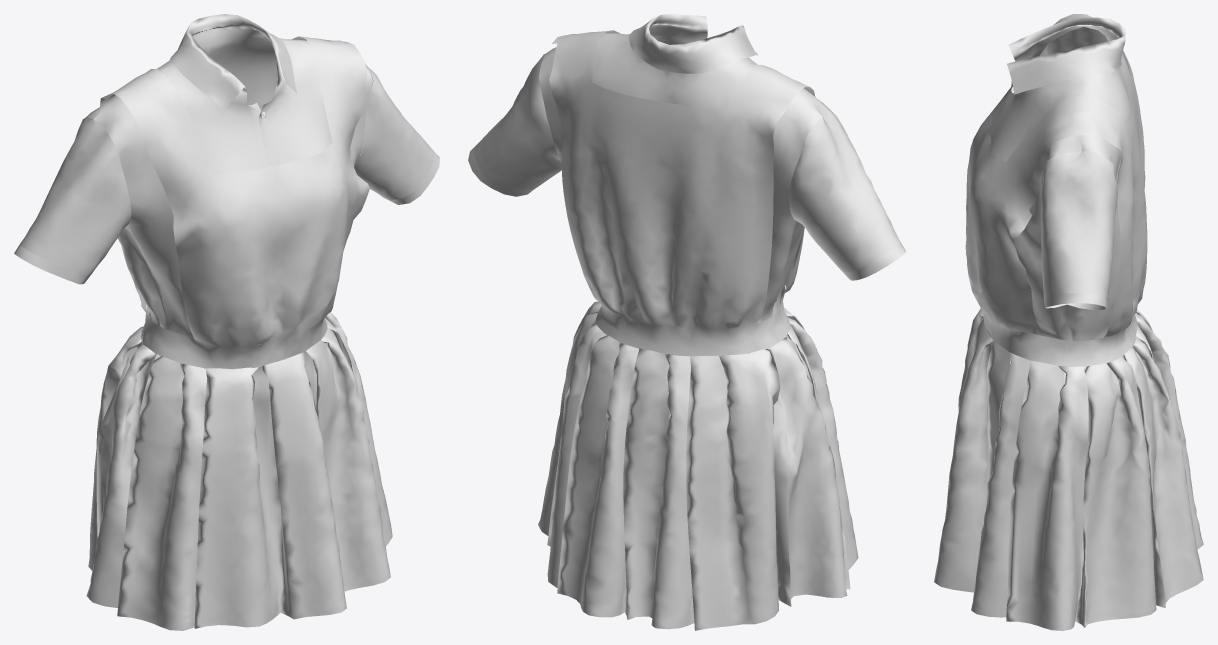
Rendered from pinaforeDraco.glb.
3 renders of one model, left to right at view 1: azimuth 30°, elevation 25°; view 2: azimuth 150°, elevation 25°; view 3: azimuth 270°, elevation 25°, orthographic. The views are drawn at different scales.
Parts seen in each view (by area): view 1: pinafore (×3), object 17, object 15, object 16, object 13, object 20, belt (×2), object 2, object 1, object 19, object 14, object 9; view 2: pinafore (×4), object 15, object 1, object 13, belt (×3), object 20, object 2, object 17, object 14, object 12; view 3: pinafore (×4), object 13, object 16, object 20, object 2, belt (×2), object 15, object 12, object 19.
Boxes of the visible parts, <box> form: pinafore (×3): <box>86,36,392,630</box>; object 17: <box>94,65,263,369</box>; object 15: <box>20,117,131,275</box>; object 16: <box>267,40,372,356</box>; object 13: <box>354,64,434,200</box>; object 20: <box>169,14,296,109</box>; belt (×2): <box>143,318,327,368</box>; object 2: <box>208,35,306,110</box>; object 1: <box>85,46,208,354</box>; object 19: <box>194,30,284,104</box>; object 14: <box>14,244,90,284</box>; object 9: <box>258,101,279,366</box>; pinafore (×4): <box>538,30,858,630</box>; object 15: <box>789,113,900,272</box>; object 1: <box>664,60,821,356</box>; object 13: <box>474,54,561,191</box>; belt (×3): <box>595,286,790,355</box>; object 20: <box>628,14,757,73</box>; object 2: <box>538,34,671,354</box>; object 17: <box>739,57,834,339</box>; object 14: <box>842,242,905,280</box>; object 12: <box>468,145,533,196</box>; pinafore (×4): <box>934,14,1203,630</box>; object 13: <box>1041,151,1117,297</box>; object 16: <box>989,76,1081,366</box>; object 20: <box>1007,17,1125,94</box>; object 2: <box>1066,67,1135,366</box>; belt (×2): <box>982,309,1135,366</box>; object 15: <box>1047,27,1107,54</box>; object 12: <box>1044,293,1107,310</box>; object 19: <box>1016,26,1116,60</box>.
Size of the model in its own units: 691 by 861 by 390.
Materials: 21 (21 with a texture image).
